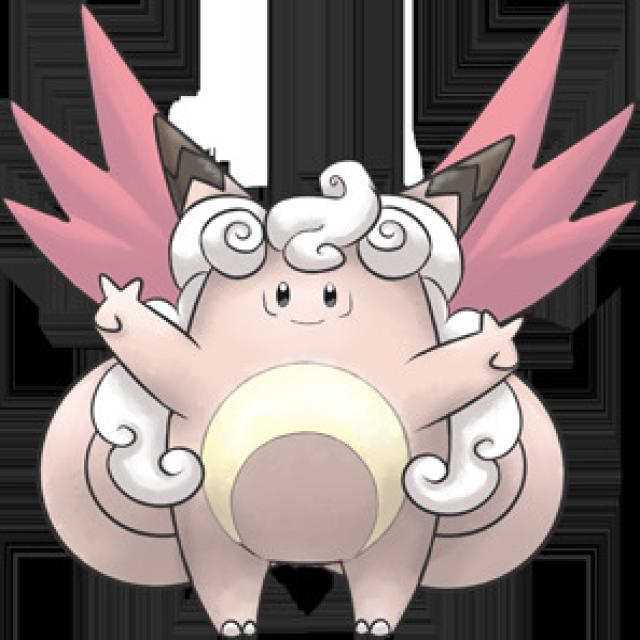Clefable: (141, 143, 484, 640)
